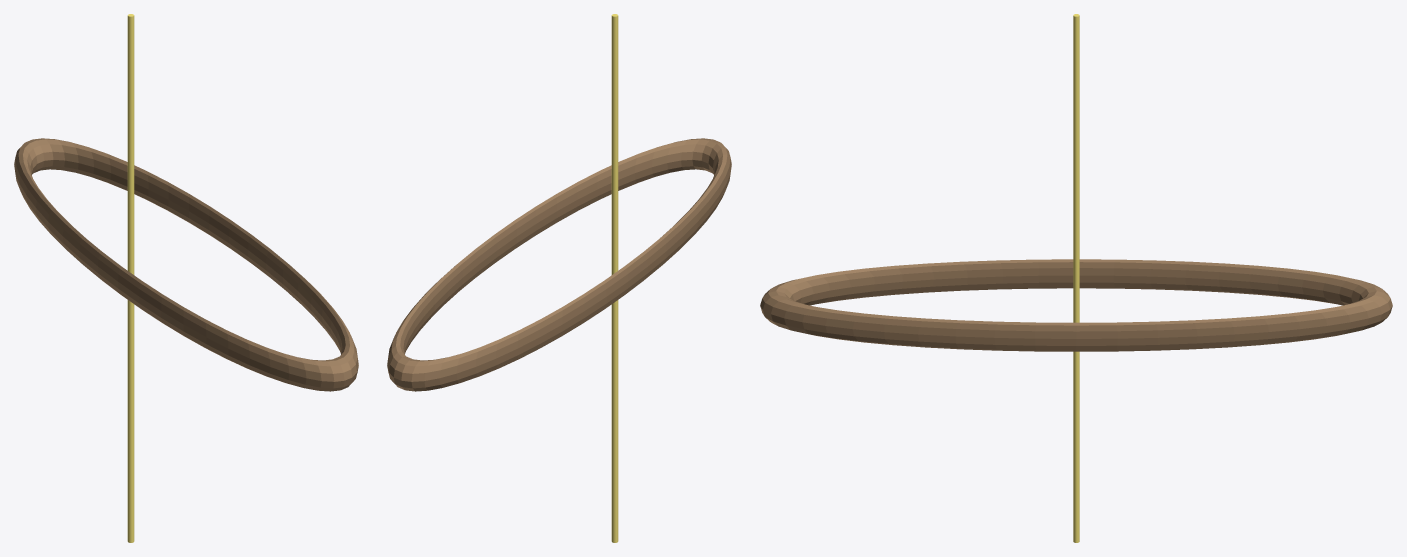
The model's file is bow_weapon.glb.
The picture shows the model from 3 angles, left to right: view 1: azimuth 30°, elevation 25°; view 2: azimuth 150°, elevation 25°; view 3: azimuth 270°, elevation 25°; orthographic projection.
Visible parts, largest first — view 1: Torus, Cylinder; view 2: Torus, Cylinder; view 3: Torus, Cylinder.
Boxes of the visible parts, x1,y1,x2,y2 form: Torus: (14,138,358,391); Cylinder: (127,14,134,542); Torus: (387,138,731,391); Cylinder: (611,14,618,542); Torus: (760,259,1392,351); Cylinder: (1073,14,1079,542).
Bounding box in the file's own units: 0.395 × 1.45 × 1.58.
